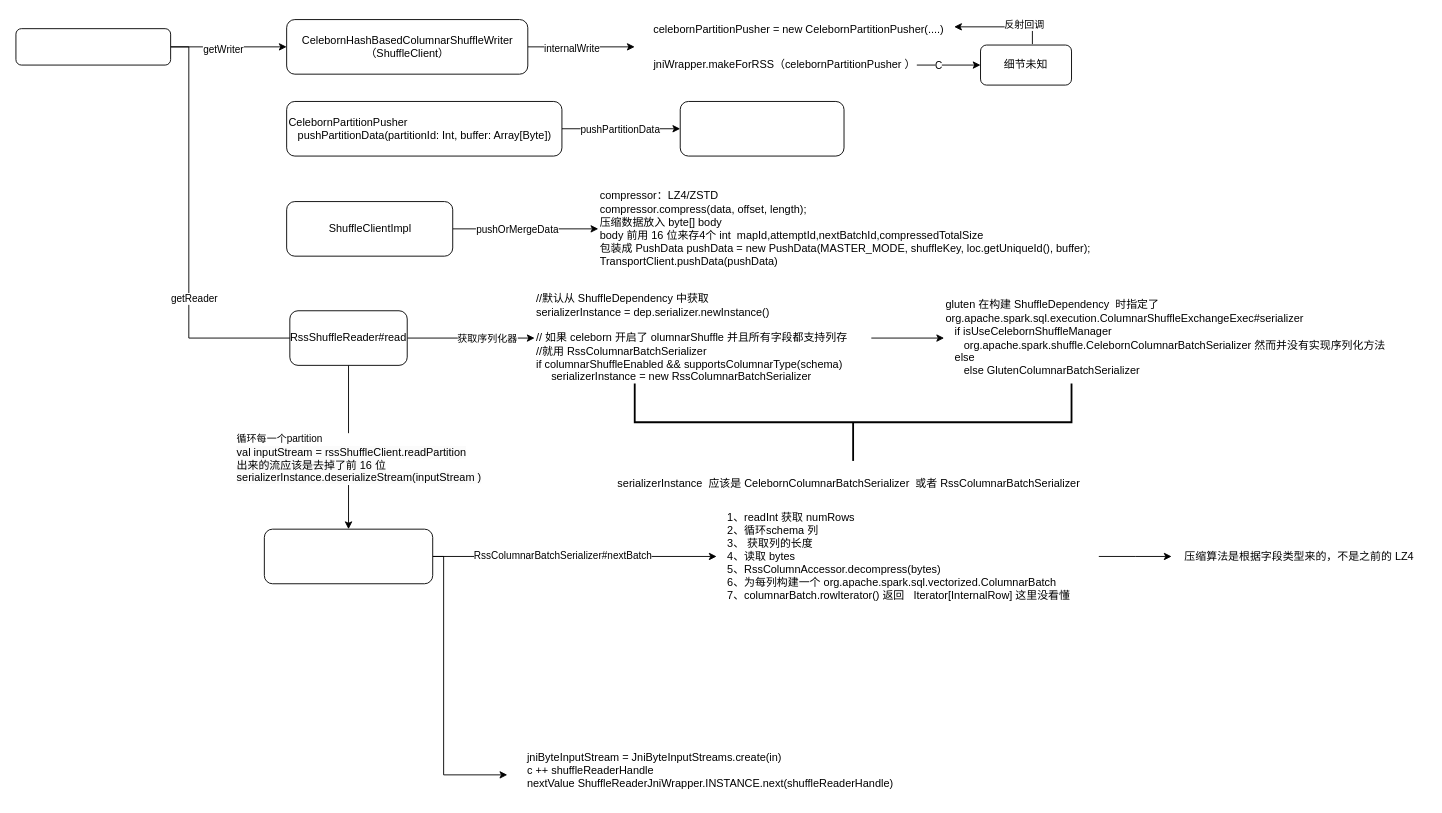
Image size: 1442x813. Some labels were removed from this diagram. Here are the shapes that lost their labels. From the top down, the centre of each, then its label:
At pixel 93 46: "CelebornShuffleManager".
At pixel 761 128: "client.pushData/mergeData client.pushOrMergeData".
At pixel 348 556: "deserializeStream".
